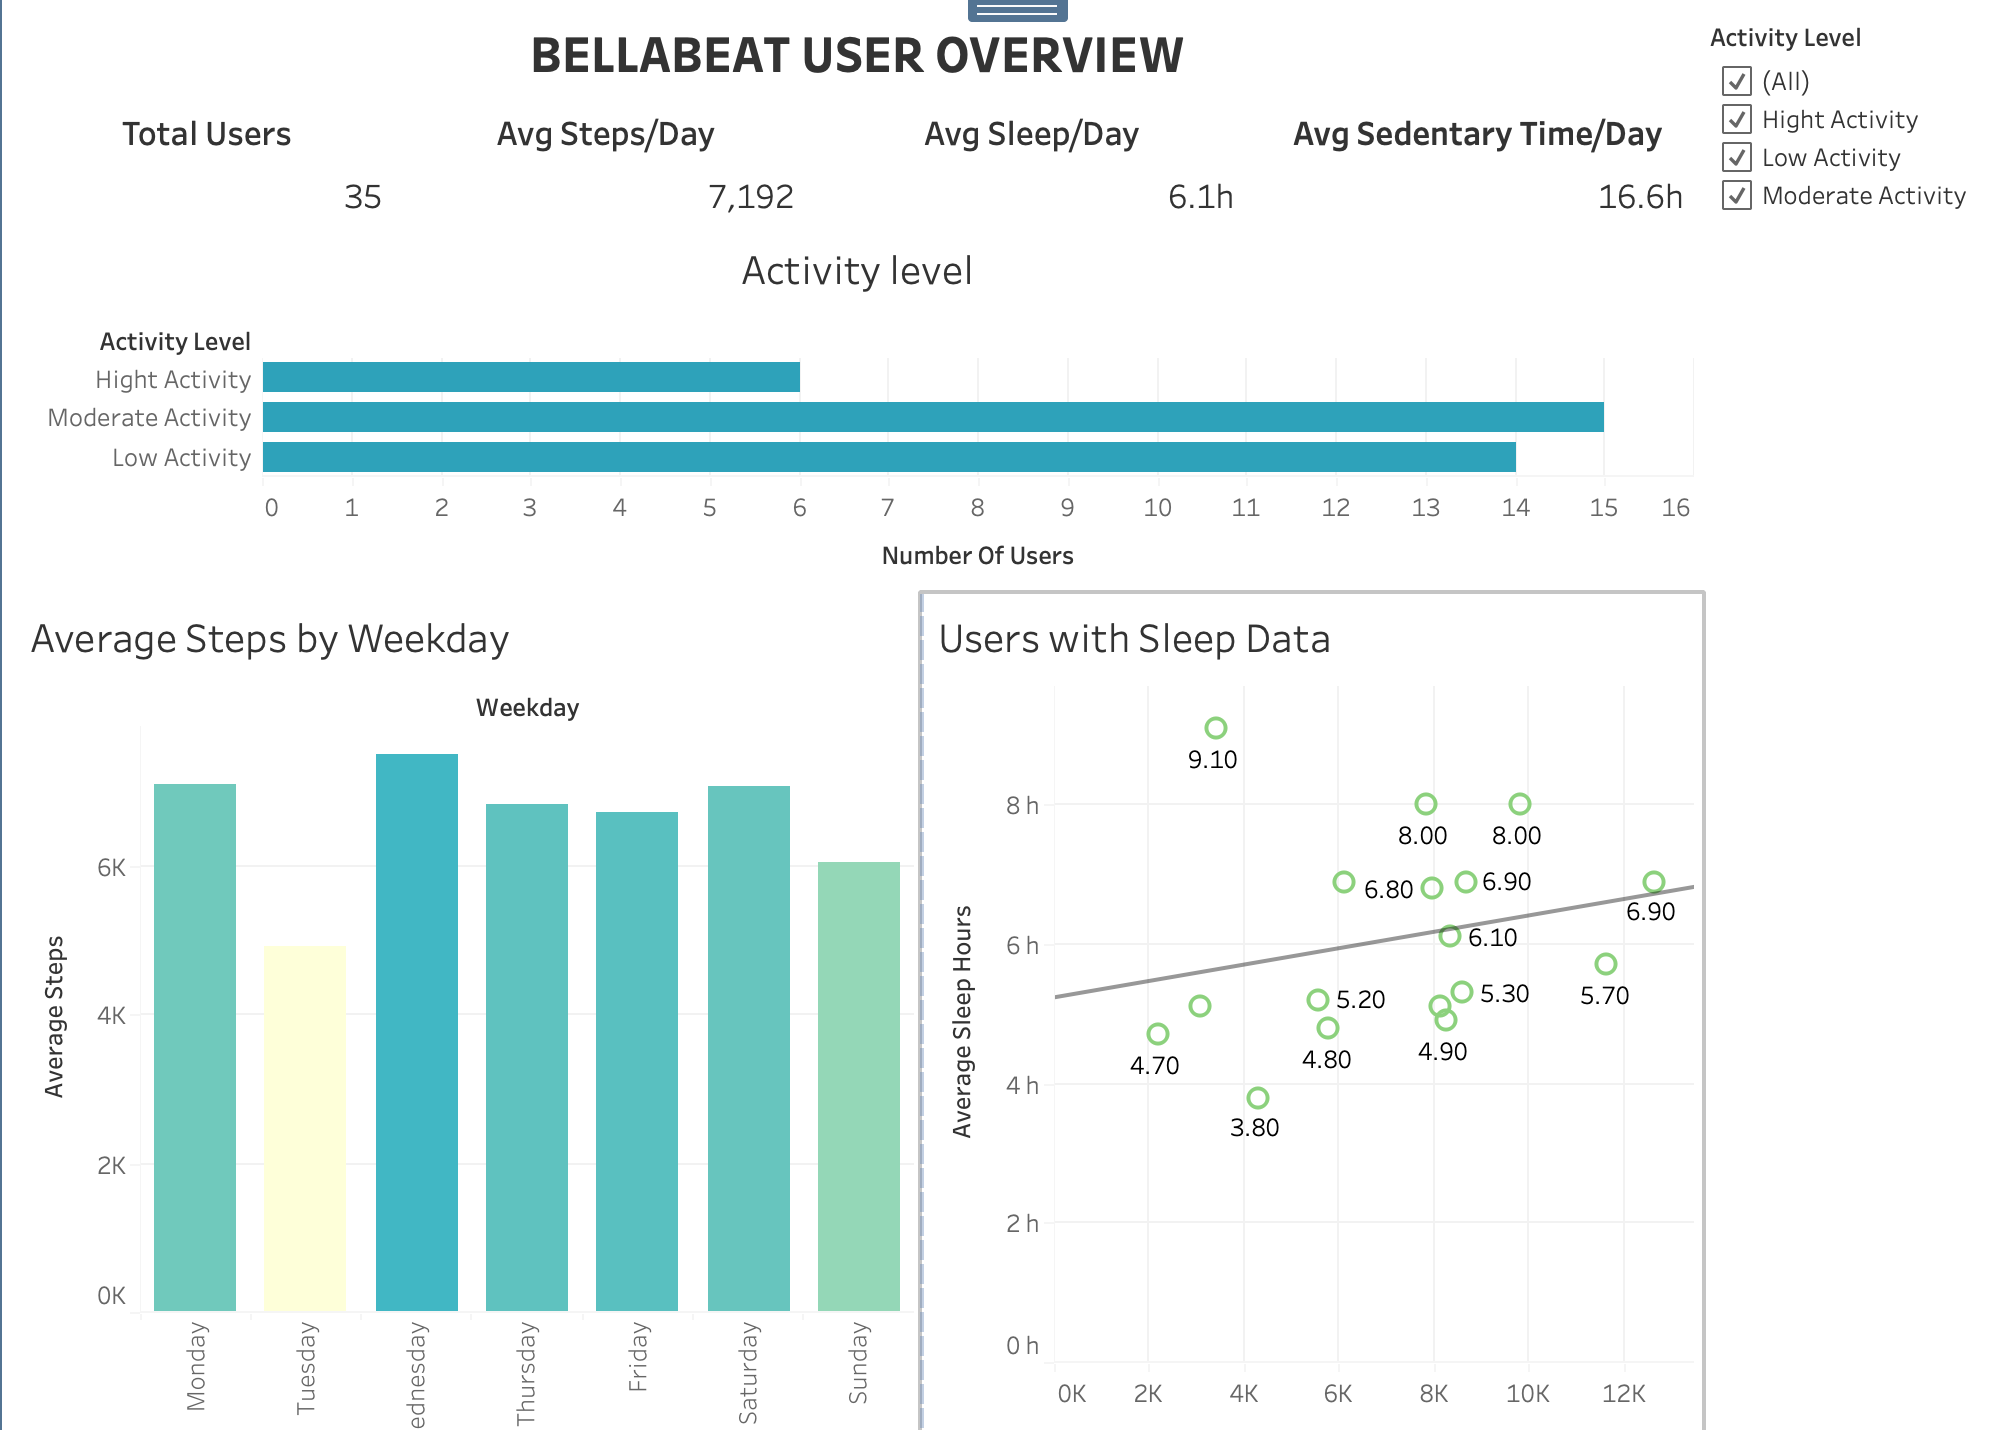

This screenshot's page, from the dashboard's own definition file:
{"tool":"tableau","page":{"name":"BELLABELT USER OVERVIEW","canvas":[1000,1000],"units":"permille","ordinal":0},"visuals":[{"type":"title","box":[7.8,9.3,827.5,47.7]},{"type":"filter","title":"Activity level","param":"[federated.1aia8kp1udf71q14wvgrj1psth87].[none:activity_level:nk]","box":[835.3,9.3,156.9,125.6]},{"type":"worksheet","title":"KPI Total Users ","mark":"Automatic","box":[7.8,57,189.5,76.6]},{"type":"worksheet","title":"KPI Avg Steps","mark":"Automatic","box":[197.4,57,201.9,76.6]},{"type":"worksheet","title":"KPI Sleep Hours","mark":"Automatic","box":[399.3,57,215.9,76.6]},{"type":"worksheet","title":"KPI Sedentary Hours","mark":"Automatic","box":[615.2,57,220.1,76.6]},{"type":"worksheet","title":"Activity level","mark":"Automatic","rows":["activity_level"],"cols":["number_of_users"],"box":[7.8,133.6,827.5,214]},{"type":"worksheet","title":"Activity by week","mark":"Automatic","rows":["average_steps"],"cols":["weekday"],"box":[7.8,347.6,445,515.1]},{"type":"worksheet","title":"Activity vs Sleep","mark":"Automatic","rows":["average_sleep_hours"],"cols":["average_steps"],"box":[452.9,347.6,382.4,515.1]},{"type":"text","box":[7.8,862.8,827.5,127.9]}]}

Visuals, with their boxes on the dashboard's canvas, which has no fixed pixel size, in thousandths of its width and height (x1, y1, x2, y2). These are canvas units, not pixel positions in the 2002x1430 screenshot, which may show the page scaled, cropped or inside an application window:
title: Rect(8, 9, 835, 57)
"Activity level" filter: Rect(835, 9, 992, 135)
"KPI Total Users " worksheet: Rect(8, 57, 197, 134)
"KPI Avg Steps" worksheet: Rect(197, 57, 399, 134)
"KPI Sleep Hours" worksheet: Rect(399, 57, 615, 134)
"KPI Sedentary Hours" worksheet: Rect(615, 57, 835, 134)
"Activity level" worksheet: Rect(8, 134, 835, 348)
"Activity by week" worksheet: Rect(8, 348, 453, 863)
"Activity vs Sleep" worksheet: Rect(453, 348, 835, 863)
text: Rect(8, 863, 835, 991)
